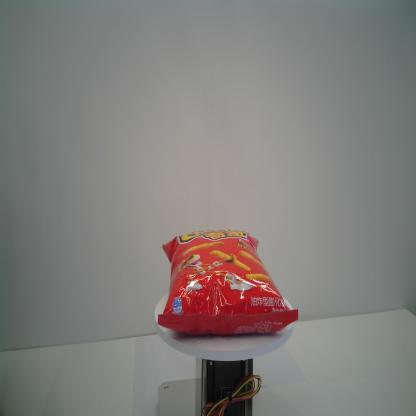Puffed Food: (157, 229, 299, 336)
